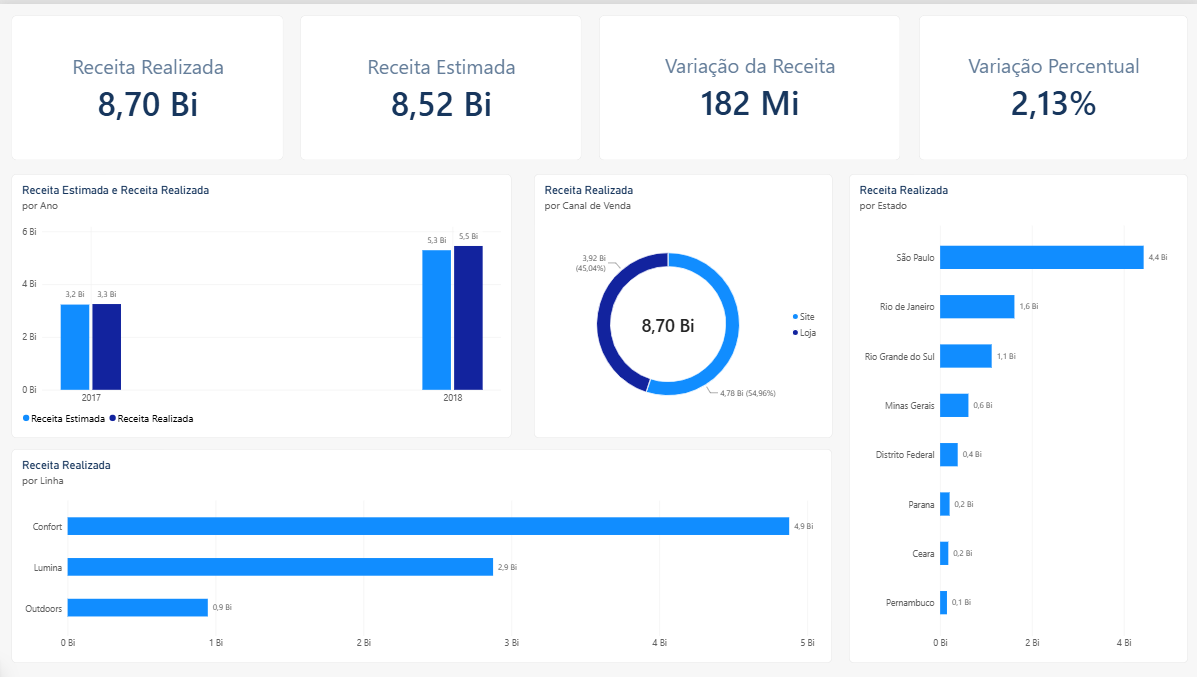

What the dashboard file says about the page in this screenshot:
{"tool":"powerbi","page":{"name":"Visão Geral","canvas":[1920,1080],"ordinal":0},"visuals":[{"type":"cardVisual","fields":{"Data":["Venda.Receita Realizada"]},"box":[20,17.5,435,232.5],"z":0},{"type":"cardVisual","fields":{"Data":["Estimativa.Variação Percentual"]},"box":[1472.5,17.5,430,232.5],"z":1},{"type":"cardVisual","fields":{"Data":["Estimativa.Variação da Receita"]},"box":[960,17.5,482.5,232.5],"z":2},{"type":"cardVisual","fields":{"Data":["Estimativa.Receita Estimada"]},"box":[482.5,17.5,450,232.5],"z":3},{"type":"lineClusteredColumnComboChart","fields":{"Category":["Calendario.Ano"],"Y":["Estimativa.Receita Estimada","Venda.Receita Realizada"]},"box":[20,272.5,800,422.5],"z":4},{"type":"clusteredBarChart","fields":{"Category":["Produto.Linha"],"Y":["Venda.Receita Realizada"]},"box":[20,712.5,1312.5,342.5],"z":6},{"type":"clusteredBarChart","fields":{"Category":["Venda.Estado"],"Y":["Venda.Receita Realizada"]},"box":[1360,272.5,542.5,782.5],"z":7},{"type":"donutChart","fields":{"Category":["Venda.Canal de Venda"],"Y":["Venda.Receita Realizada"]},"box":[855,272.5,477.5,422.5],"z":8}]}

Visuals, with their boxes in screenshot pixels (x1, y1, x2, y2), scaled from the page's 1920x1080 canvas onto the 1197x677 screenshot:
cardVisual - Venda.Receita Realizada: locate(12, 11, 284, 157)
cardVisual - Estimativa.Variação Percentual: locate(918, 11, 1186, 157)
cardVisual - Estimativa.Variação da Receita: locate(598, 11, 899, 157)
cardVisual - Estimativa.Receita Estimada: locate(301, 11, 581, 157)
lineClusteredColumnComboChart - Calendario.Ano x Estimativa.Receita Estimada: locate(12, 171, 511, 436)
clusteredBarChart - Produto.Linha x Venda.Receita Realizada: locate(12, 447, 831, 661)
clusteredBarChart - Venda.Estado x Venda.Receita Realizada: locate(848, 171, 1186, 661)
donutChart - Venda.Canal de Venda x Venda.Receita Realizada: locate(533, 171, 831, 436)
